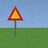sign: (7, 6, 23, 36)
